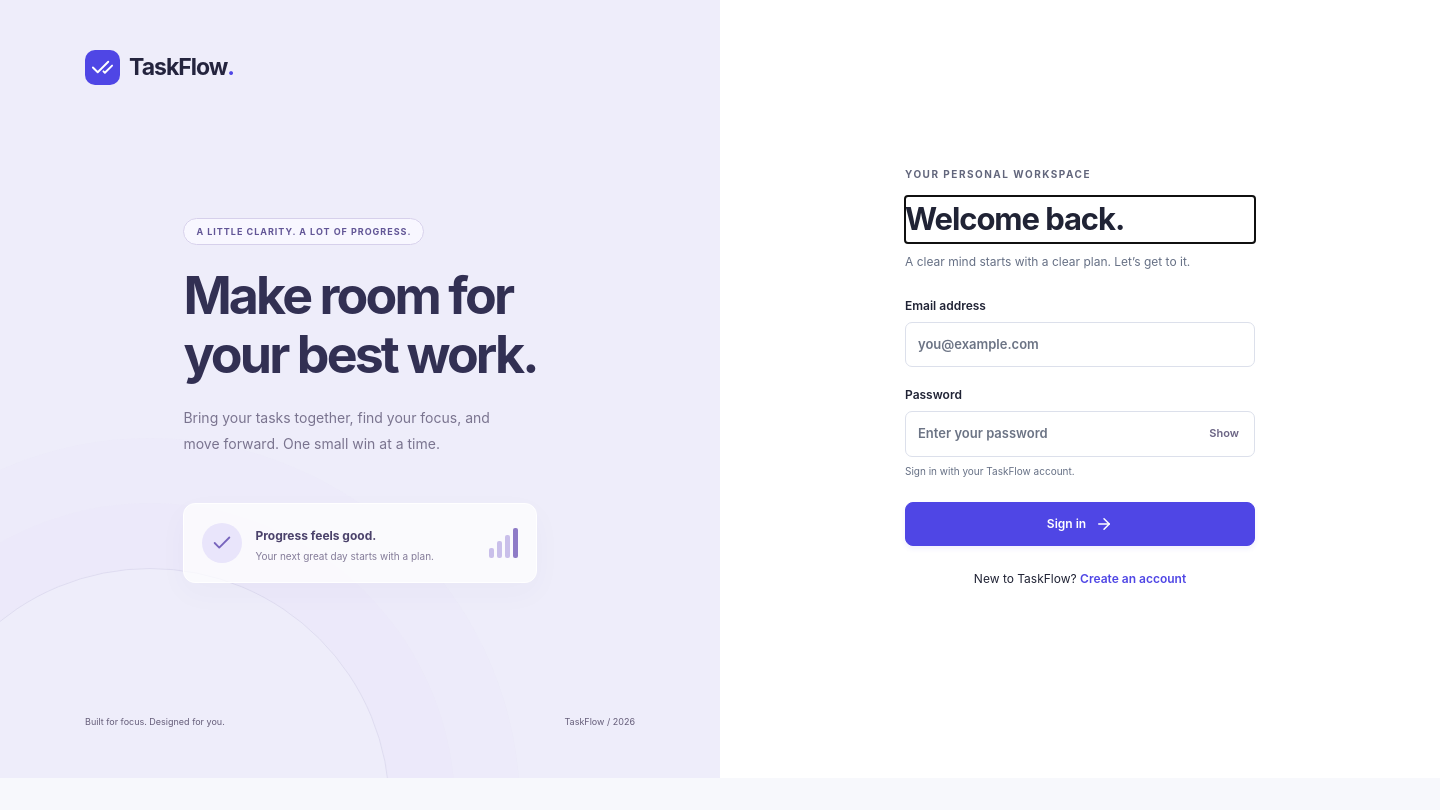
guards the dashboard after session restoration and navigates auth screens
Check: the heading "Welcome back." is shown, box [905, 200, 1124, 237]
Click the link "Create an account" at [1133, 578], box [1080, 571, 1186, 586]
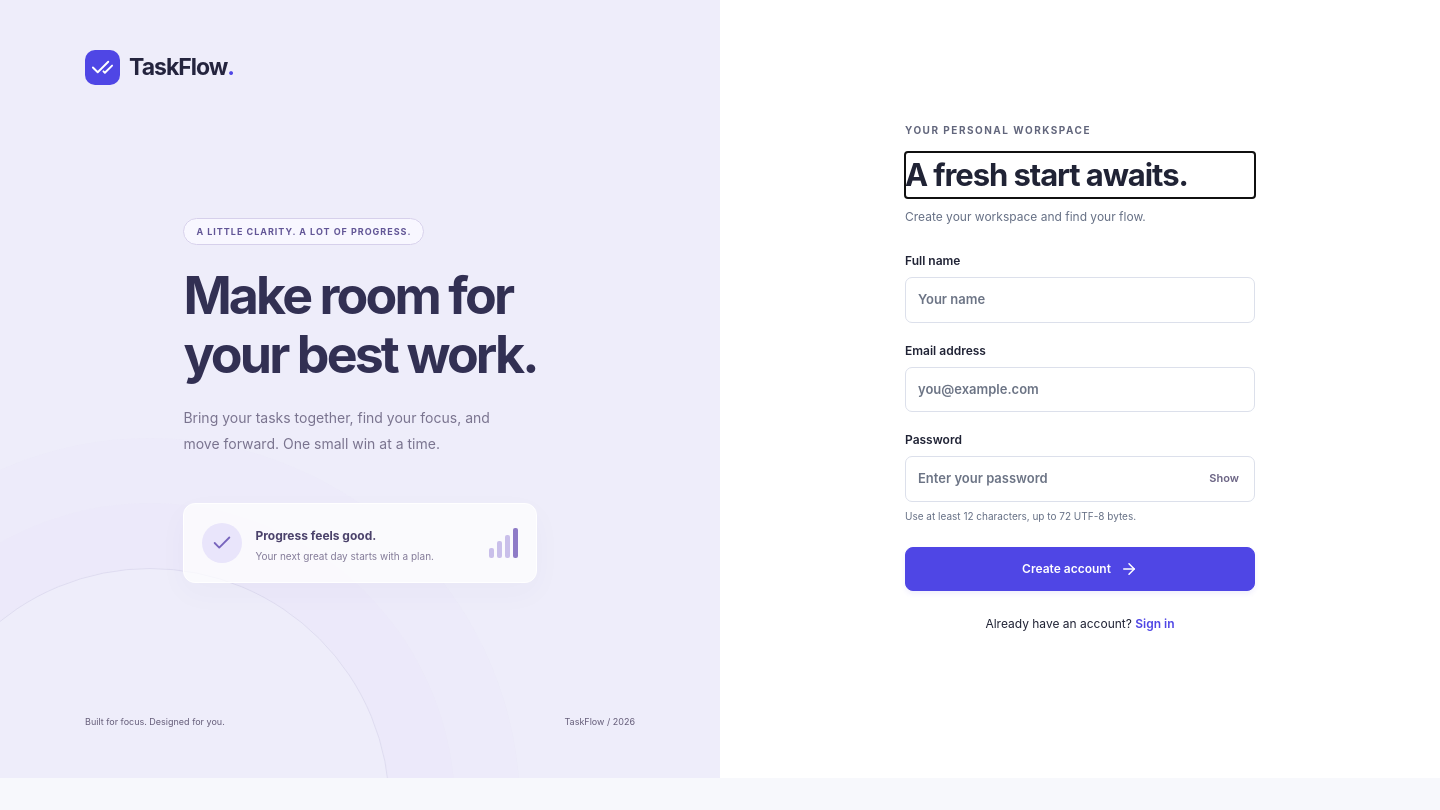
Check: the heading "A fresh start awaits." is shown, box [905, 156, 1188, 192]
Check: the field labelled "Full name" is shown, box [905, 277, 1255, 322]
